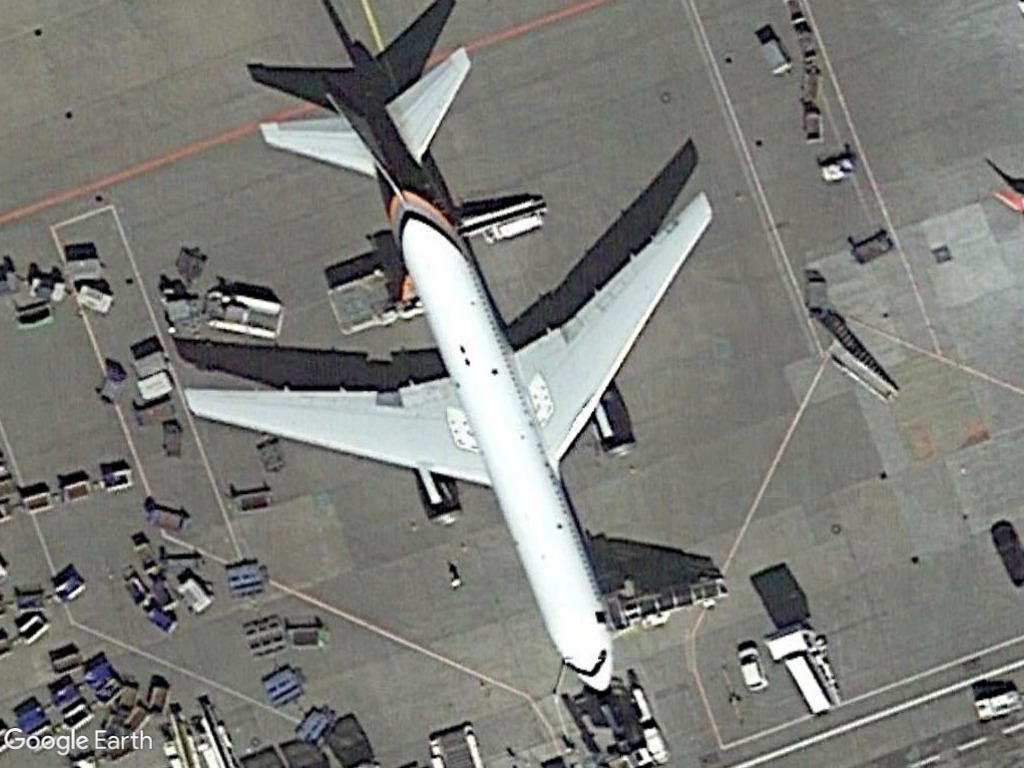airliner: (171, 42, 716, 696)
